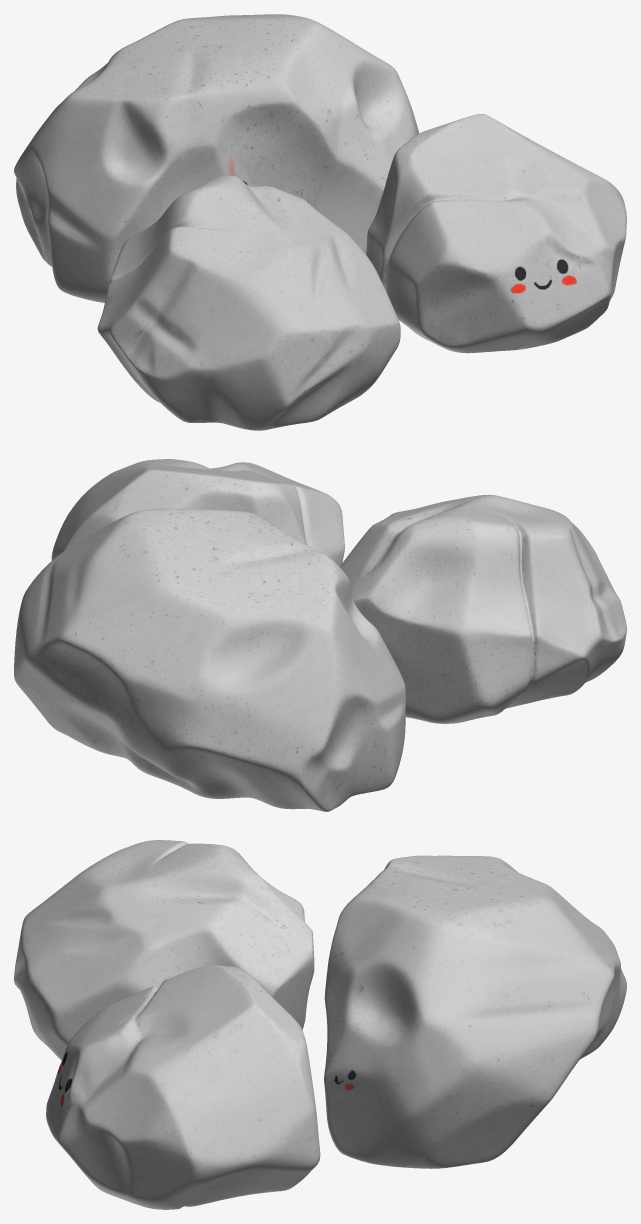
The model's file is stone1_opt.glb.
3 renders of one model, top to bottom at view 1: azimuth 30°, elevation 25°; view 2: azimuth 150°, elevation 25°; view 3: azimuth 270°, elevation 25°, orthographic. The views are drawn at different scales.
Size of the model in its own units: 1.9 by 0.7295 by 1.9.
Materials: 1 (1 with a texture image).
